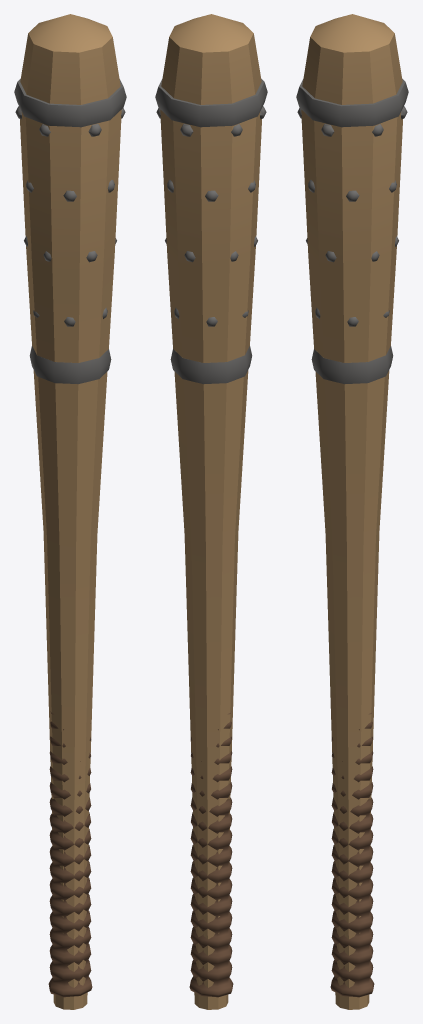
Rendered from greatclub.glb.
3 views of the same model, side by side, from view 1: azimuth 30°, elevation 25°; view 2: azimuth 150°, elevation 25°; view 3: azimuth 330°, elevation 25° (orthographic).
Parts seen in each view (by area): view 1: greatclub; view 2: greatclub; view 3: greatclub.
Part boxes in pixels (x1,y1,x2,y2): greatclub: [14, 14, 126, 1009]; greatclub: [155, 14, 267, 1009]; greatclub: [296, 14, 408, 1009].
Size of the model in its own units: 0.2926 by 2.83 by 0.2844.
